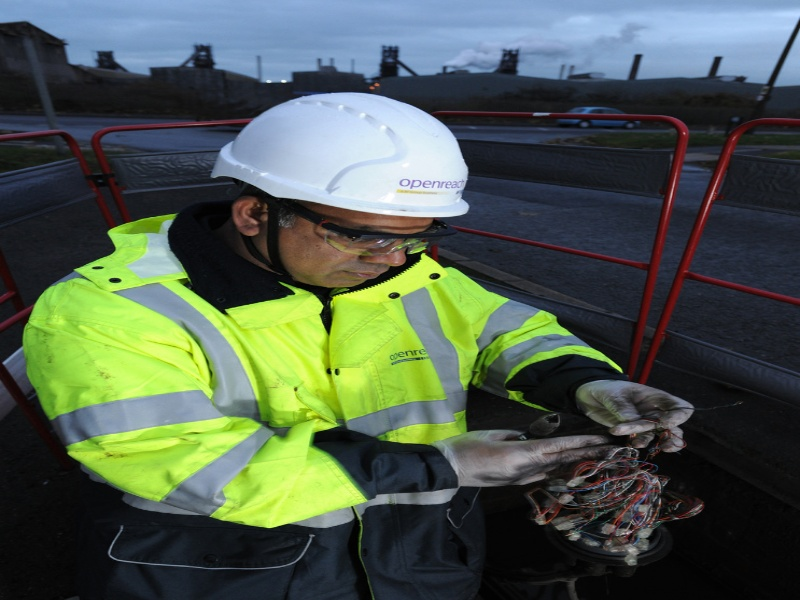helmet: (216, 94, 480, 218)
jacket: (30, 229, 618, 529)
